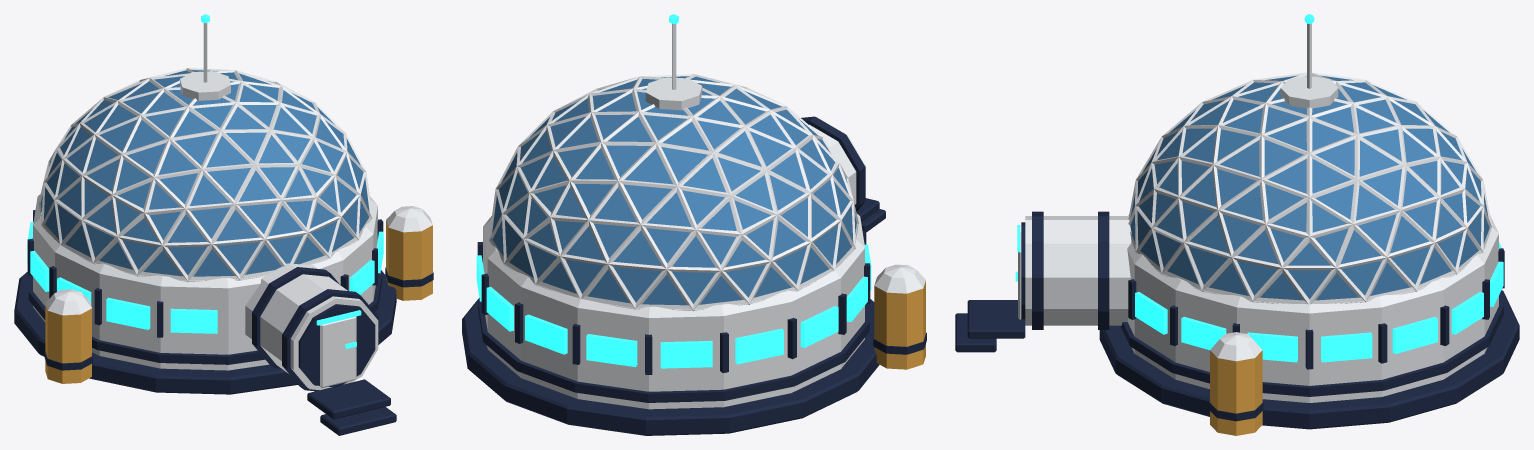
Rendered from habitat_dome.glb.
The picture shows the model from 3 angles, left to right: view 1: azimuth 30°, elevation 25°; view 2: azimuth 150°, elevation 25°; view 3: azimuth 270°, elevation 25°; orthographic projection. The views are drawn at different scales.
Visible parts, largest first — view 1: habitat_dome; view 2: habitat_dome; view 3: habitat_dome.
Boxes of the visible parts, left/top/right/bottom form: habitat_dome: left=14, top=14, right=433, bottom=435; habitat_dome: left=462, top=14, right=926, bottom=435; habitat_dome: left=955, top=14, right=1519, bottom=435.
Size of the model in its own units: 5.86 by 4.39 by 6.85.
